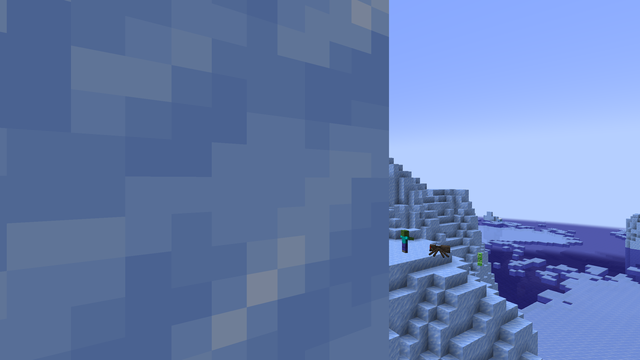araignees: (426, 241, 450, 257)
creepers: (476, 251, 482, 265)
zombies: (400, 230, 409, 253)
